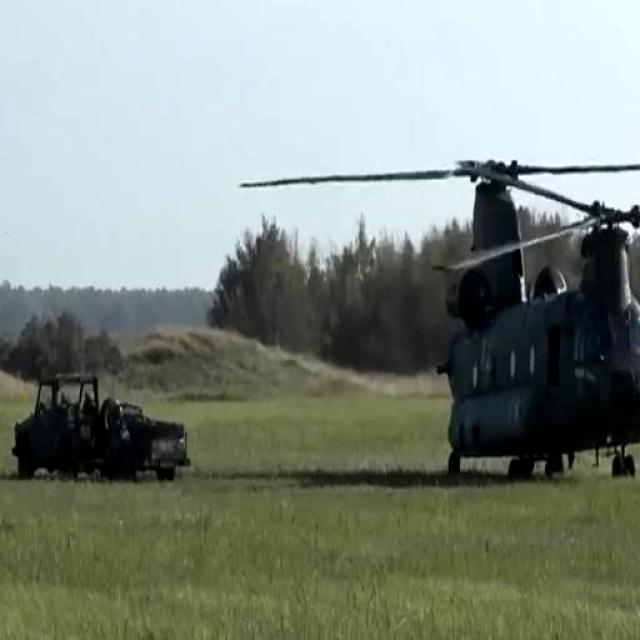drone: (230, 146, 640, 515)
